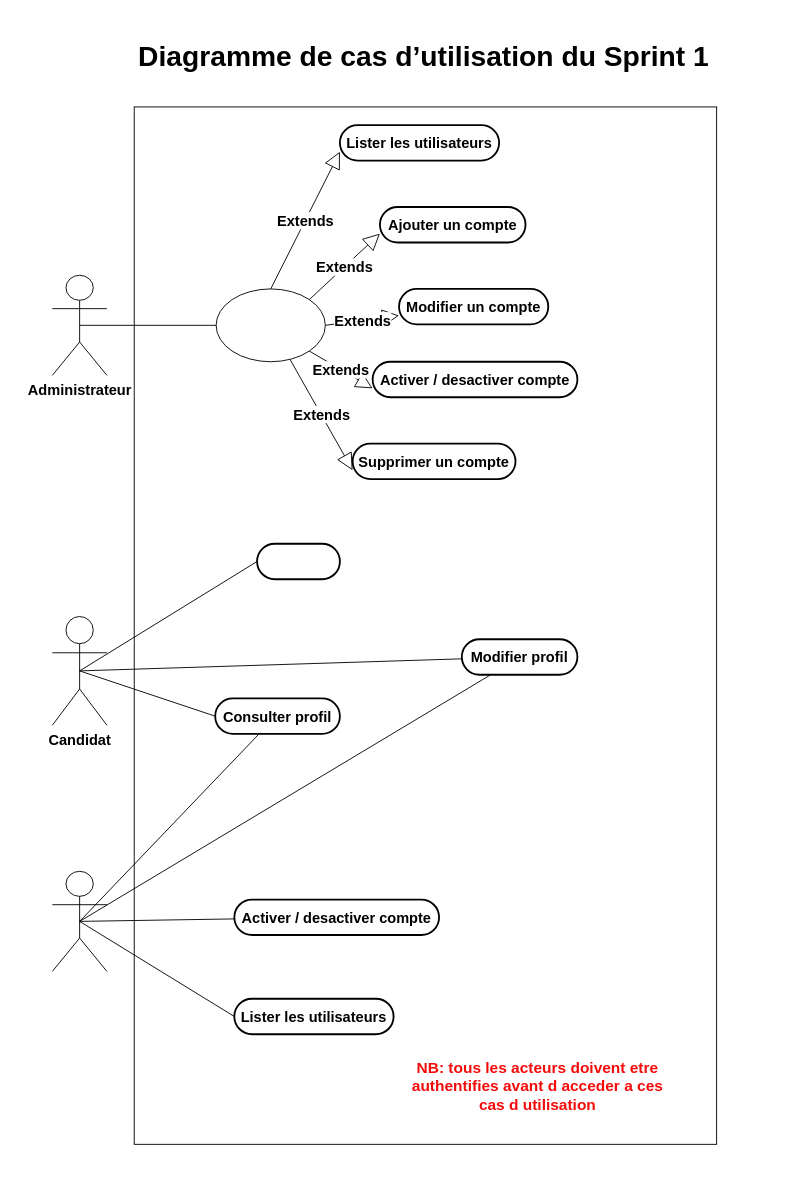
The diagram is 794 pixels wide and 1178 high, and some of its shapes have lost their labels. The box of each missing label's shape, as (x1, y1, x2, y2) in pixels:
Gerer les comptes: (215, 288, 325, 362)
RH: (51, 870, 107, 971)
S inscrire: (256, 542, 340, 580)
